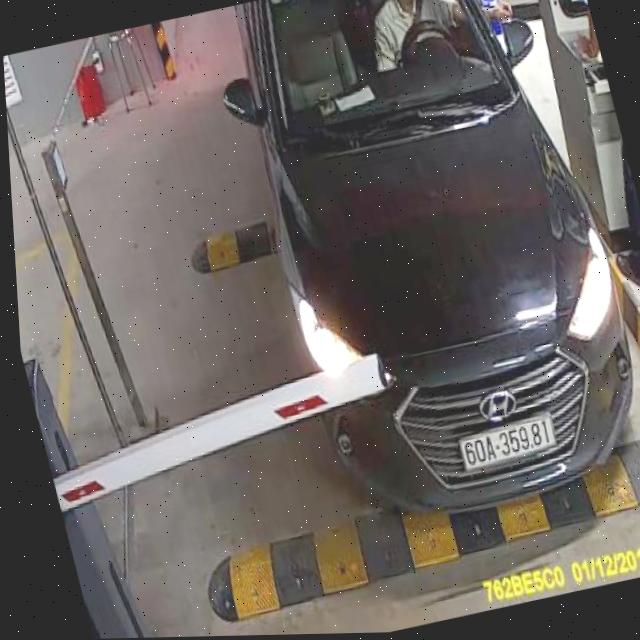car: (195, 0, 640, 551)
plate: (451, 411, 564, 475)
